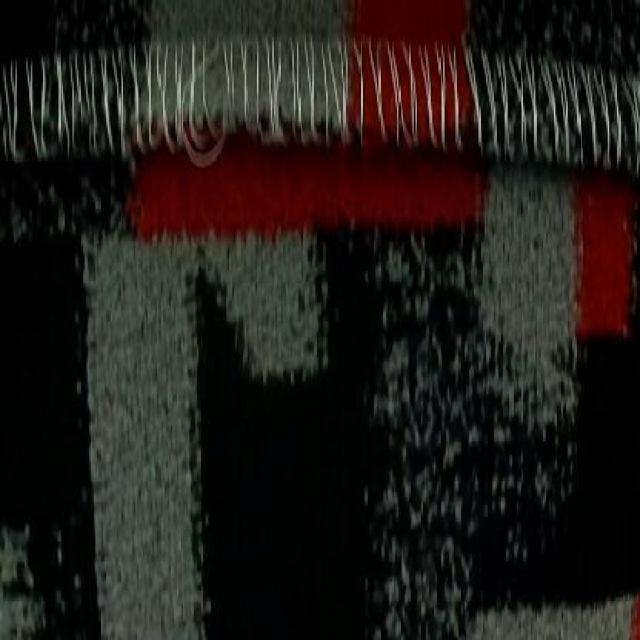gray stitch: (11, 38, 640, 158)
